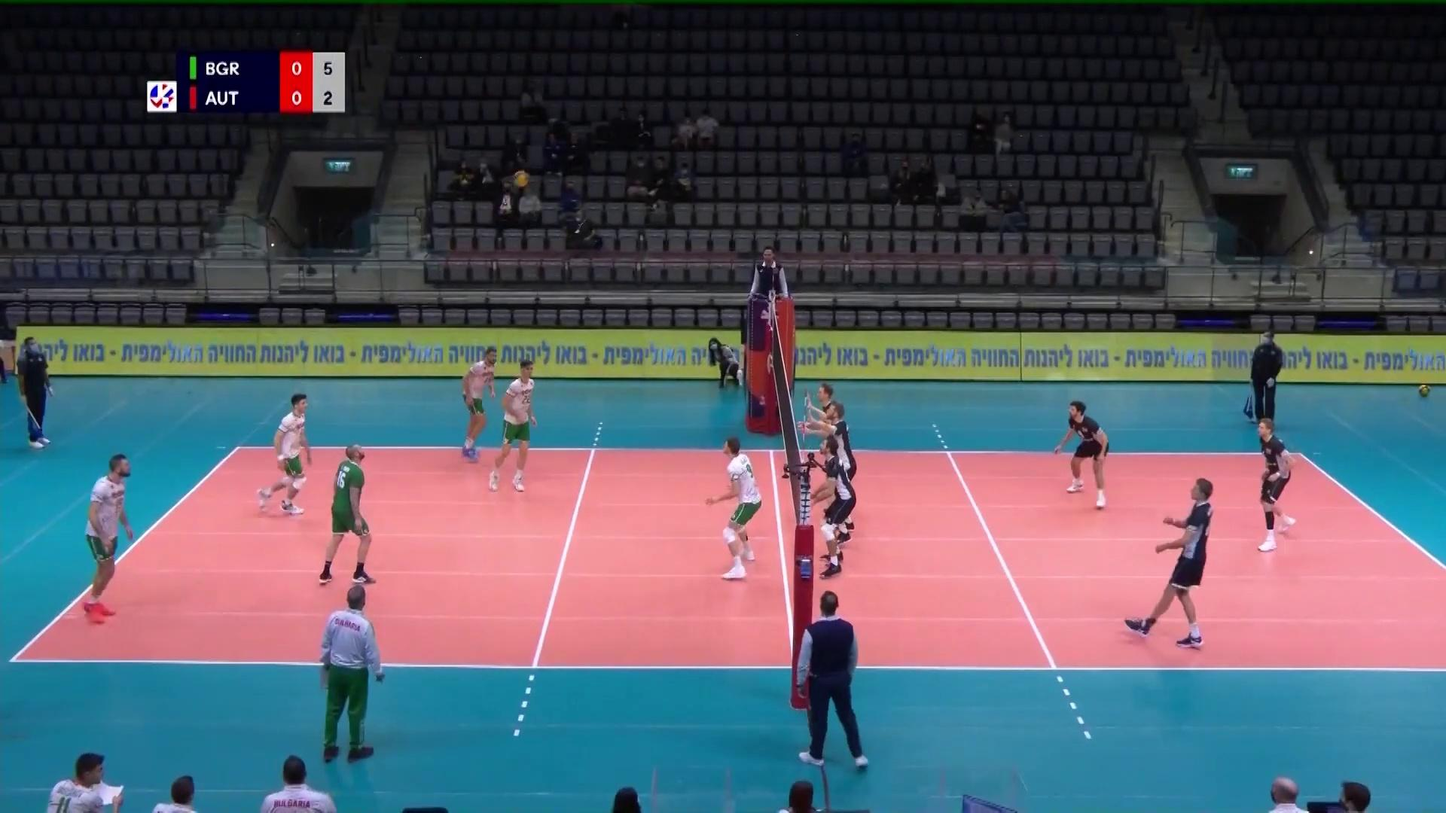ball: (513, 169, 530, 187)
